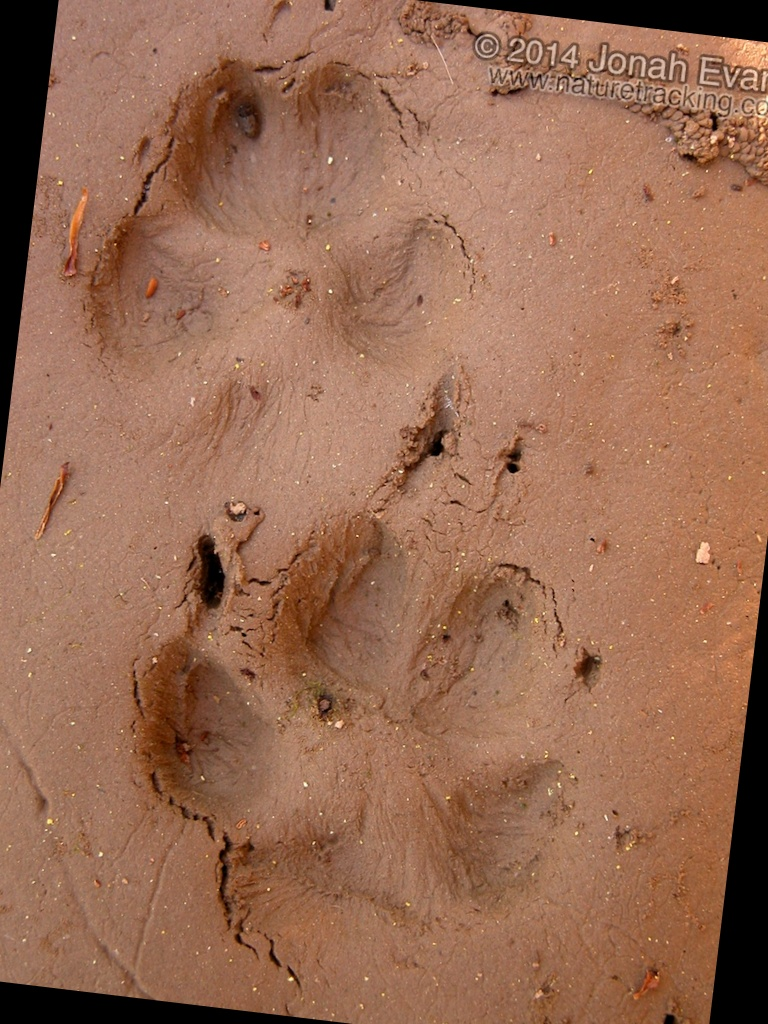fox: (32, 332, 688, 1020), (7, 0, 621, 504)
